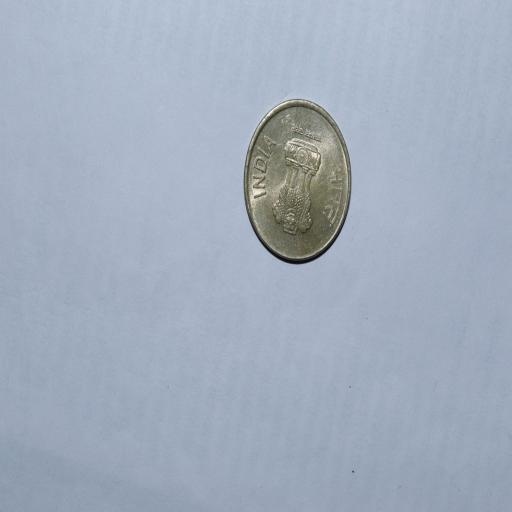rupee5: (240, 98, 350, 264)
